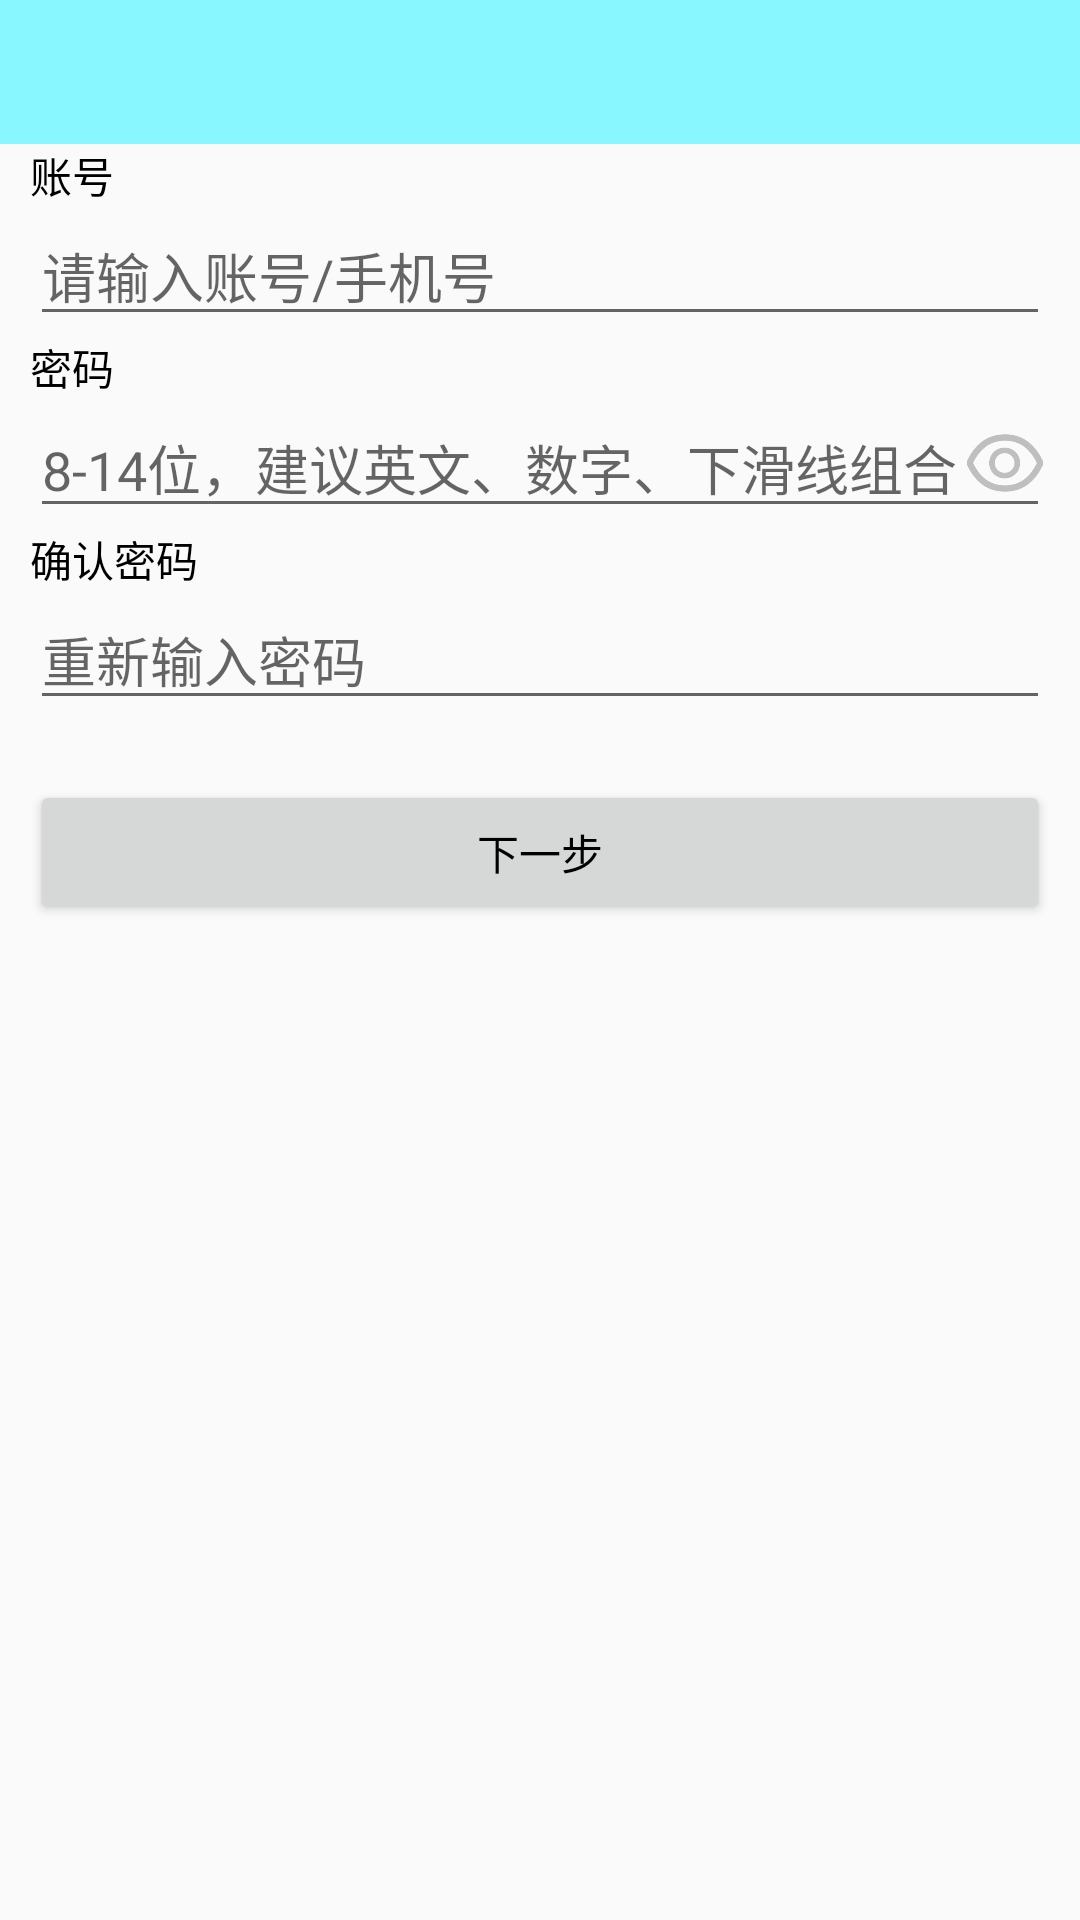

Icons on this 1080*1920 Android screen, each with its box as (x1, y1, x2, y2):
eye: (967, 434, 1043, 492)
